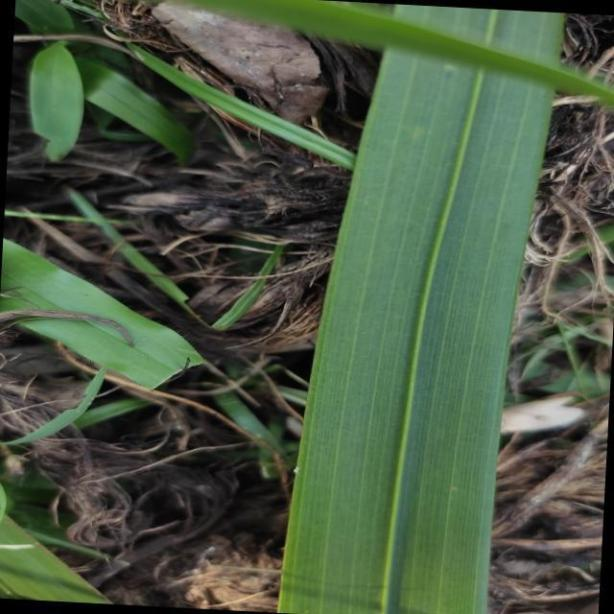Healthy: (277, 0, 569, 614)
